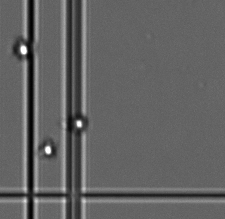Living Cell: (70, 115, 89, 133), (40, 139, 57, 158), (14, 40, 30, 59)
